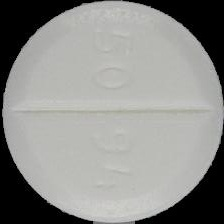54868-4096: (0, 0, 224, 224)
